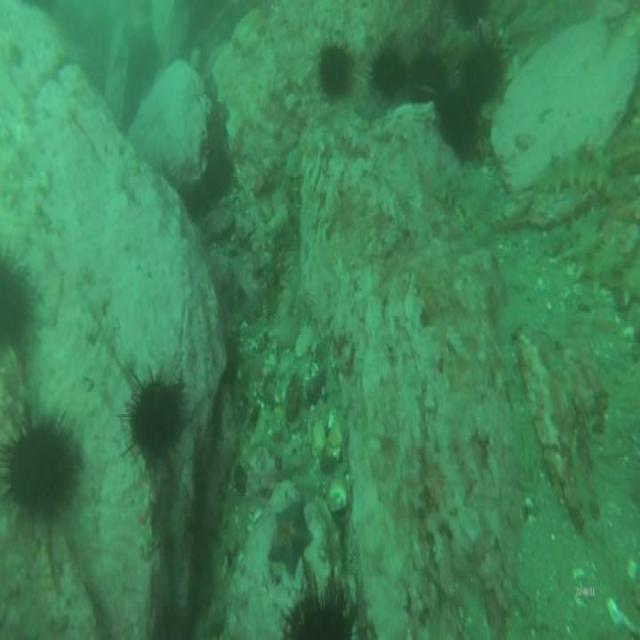echinus: (1, 408, 84, 526), (117, 362, 192, 480), (281, 569, 363, 640), (1, 248, 35, 365), (309, 35, 356, 114), (434, 79, 482, 156), (458, 31, 506, 106), (404, 43, 452, 106), (369, 41, 408, 108)
holothurian: (565, 199, 639, 307), (527, 139, 622, 198), (432, 171, 492, 240)
starfish: (266, 490, 316, 581)
